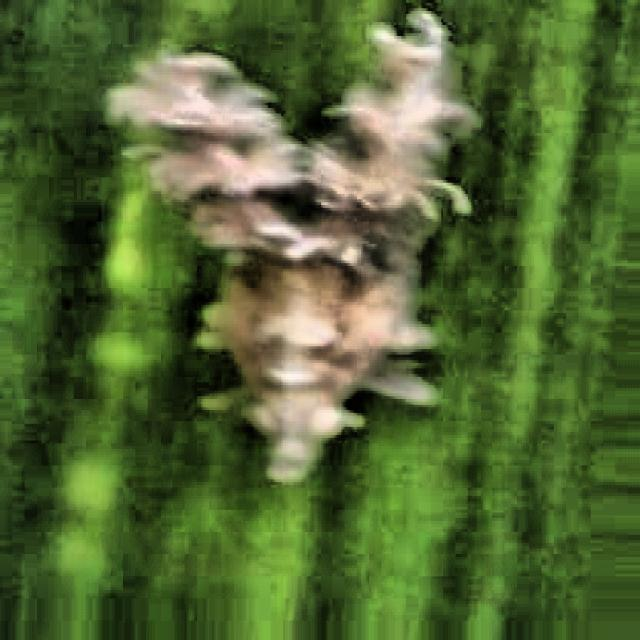Pyrilla-perpusilla: (75, 8, 537, 572)
